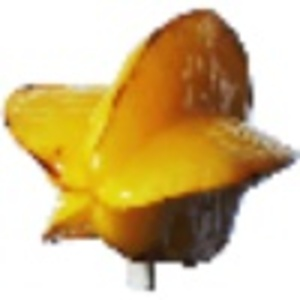carambola: (1, 6, 300, 287)
